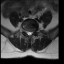CCS_normal: (28, 29, 30, 37)
LFS_stenosis: (32, 29, 34, 34)
LLS_normal: (30, 29, 32, 35)
RFS_stenosis: (24, 29, 26, 33)
RLS_normal: (27, 29, 28, 35)
